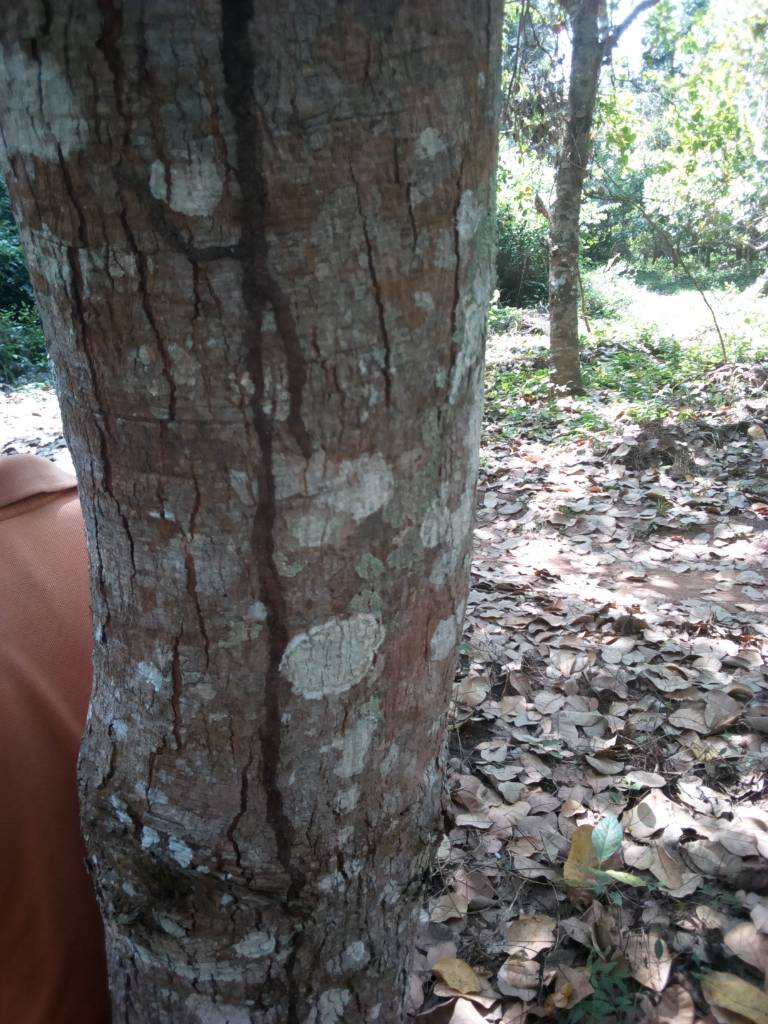Termites: (225, 2, 333, 1024)
